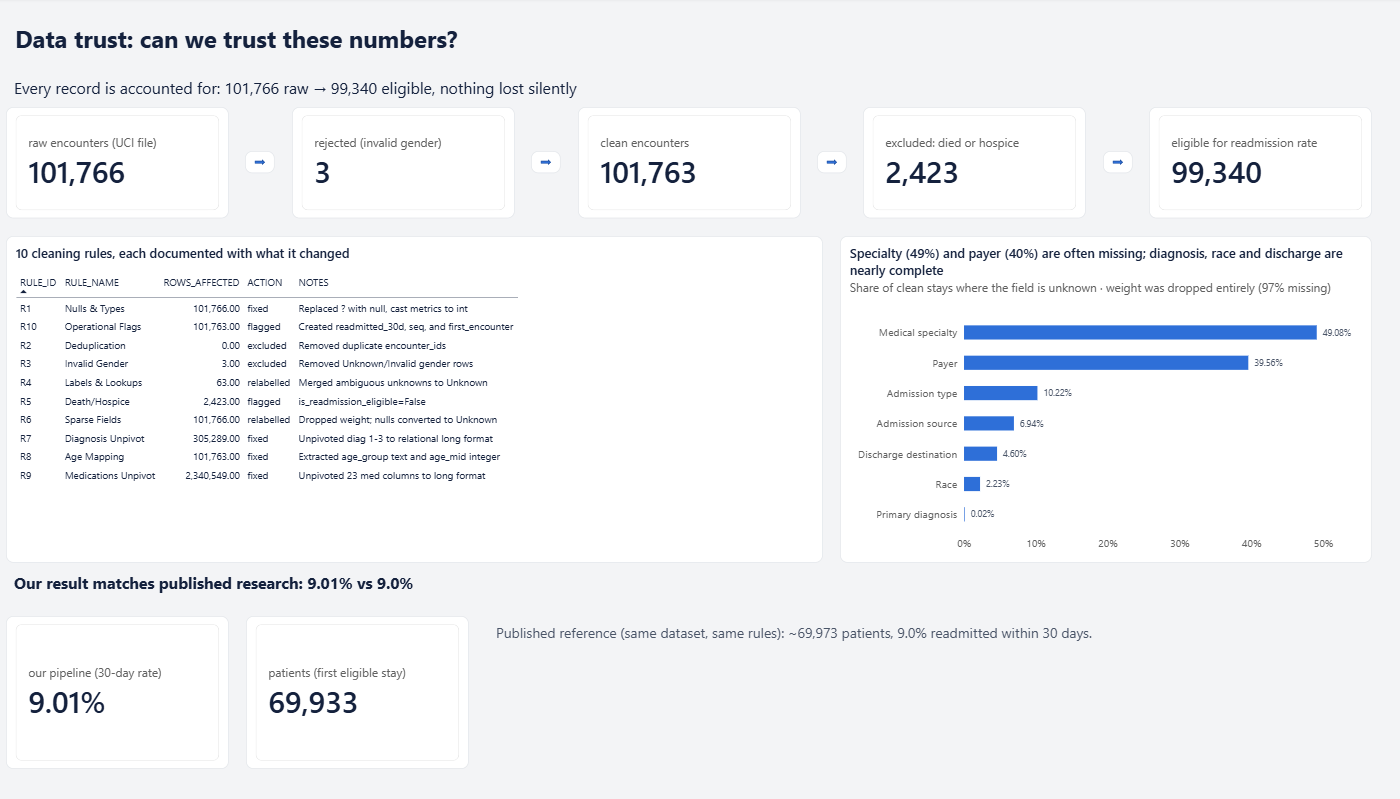

This screenshot's page, from the dashboard's own definition file:
{"tool":"powerbi","page":{"name":"Data trust","canvas":[1920,1080],"ordinal":4},"visuals":[{"type":"cardVisual","fields":{"Data":["Max(MART_DATA_TRUST.RAW_ENCOUNTERS)"]},"box":[40,148,300,150],"z":0},{"type":"cardVisual","fields":{"Data":["Max(MART_DATA_TRUST.REJECTED_ENCOUNTERS)"]},"box":[425,148,300,150],"z":1000},{"type":"cardVisual","fields":{"Data":["Max(MART_DATA_TRUST.CLEAN_ENCOUNTERS)"]},"box":[810,148,300,150],"z":2000},{"type":"cardVisual","fields":{"Data":["Max(MART_DATA_TRUST.EXCLUDED_DEATH_HOSPICE)"]},"box":[1195,148,300,150],"z":3000},{"type":"cardVisual","fields":{"Data":["Max(MART_DATA_TRUST.ELIGIBLE_ENCOUNTERS)"]},"box":[1580,148,300,150],"z":4000},{"type":"shape","box":[362.5,208,40,30],"z":5000},{"type":"shape","box":[747.5,208,40,30],"z":6000},{"type":"shape","box":[1132.5,208,40,30],"z":7000},{"type":"shape","box":[1517.5,208,40,30],"z":8000},{"type":"textbox","box":[39.4,96.3,1841.2,51.1],"z":9000},{"type":"tableEx","title":"10 cleaning rules, each documented with what it changed","fields":{"Values":["MART_DATA_TRUST.RULE_ID","MART_DATA_TRUST.RULE_NAME","MART_DATA_TRUST.ROWS_AFFECTED","MART_DATA_TRUST.ACTION","MART_DATA_TRUST.NOTES"]},"box":[40,322,1100,440],"z":10000},{"type":"clusteredBarChart","title":"Specialty (49%) and payer (40%) are often missing; diagnosis, race and discharge are nearly complete","fields":{"Category":["MART_UNKNOWN_SHARE.FIELD"],"Y":["Avg(MART_UNKNOWN_SHARE.UNKNOWN_SHARE)"]},"box":[1164,322,716,440],"z":11000},{"type":"cardVisual","fields":{"Data":["Max(MART_READMISSION_KPIS.BENCHMARK_RATE_30D)"]},"box":[40,834,300,206],"z":12000},{"type":"cardVisual","fields":{"Data":["Max(MART_READMISSION_KPIS.BENCHMARK_PATIENTS)"]},"box":[364,834,300,206],"z":13000},{"type":"textbox","box":[688,834,1192,206],"z":14000},{"type":"textbox","box":[39.4,763,1841.2,62.7],"z":15000},{"type":"textbox","box":[40,24,1840,56],"z":20000}]}

Visuals, with their boxes in screenshot pixels (x1, y1, x2, y2), scaled from the page's 1920x1080 canvas onto the 1400x799 screenshot:
cardVisual - Max(MART_DATA_TRUST.RAW_ENCOUNTERS): Rect(29, 109, 248, 220)
cardVisual - Max(MART_DATA_TRUST.REJECTED_ENCOUNTERS): Rect(310, 109, 529, 220)
cardVisual - Max(MART_DATA_TRUST.CLEAN_ENCOUNTERS): Rect(591, 109, 809, 220)
cardVisual - Max(MART_DATA_TRUST.EXCLUDED_DEATH_HOSPICE): Rect(871, 109, 1090, 220)
cardVisual - Max(MART_DATA_TRUST.ELIGIBLE_ENCOUNTERS): Rect(1152, 109, 1371, 220)
shape: Rect(264, 154, 293, 176)
shape: Rect(545, 154, 574, 176)
shape: Rect(826, 154, 855, 176)
shape: Rect(1107, 154, 1136, 176)
textbox: Rect(29, 71, 1371, 109)
"10 cleaning rules, each documented with what it changed" tableEx: Rect(29, 238, 831, 564)
"Specialty (49%) and payer (40%) are often missing; diagnosis, race and discharge are nearly complete" clusteredBarChart: Rect(849, 238, 1371, 564)
cardVisual - Max(MART_READMISSION_KPIS.BENCHMARK_RATE_30D): Rect(29, 617, 248, 769)
cardVisual - Max(MART_READMISSION_KPIS.BENCHMARK_PATIENTS): Rect(265, 617, 484, 769)
textbox: Rect(502, 617, 1371, 769)
textbox: Rect(29, 564, 1371, 611)
textbox: Rect(29, 18, 1371, 59)
